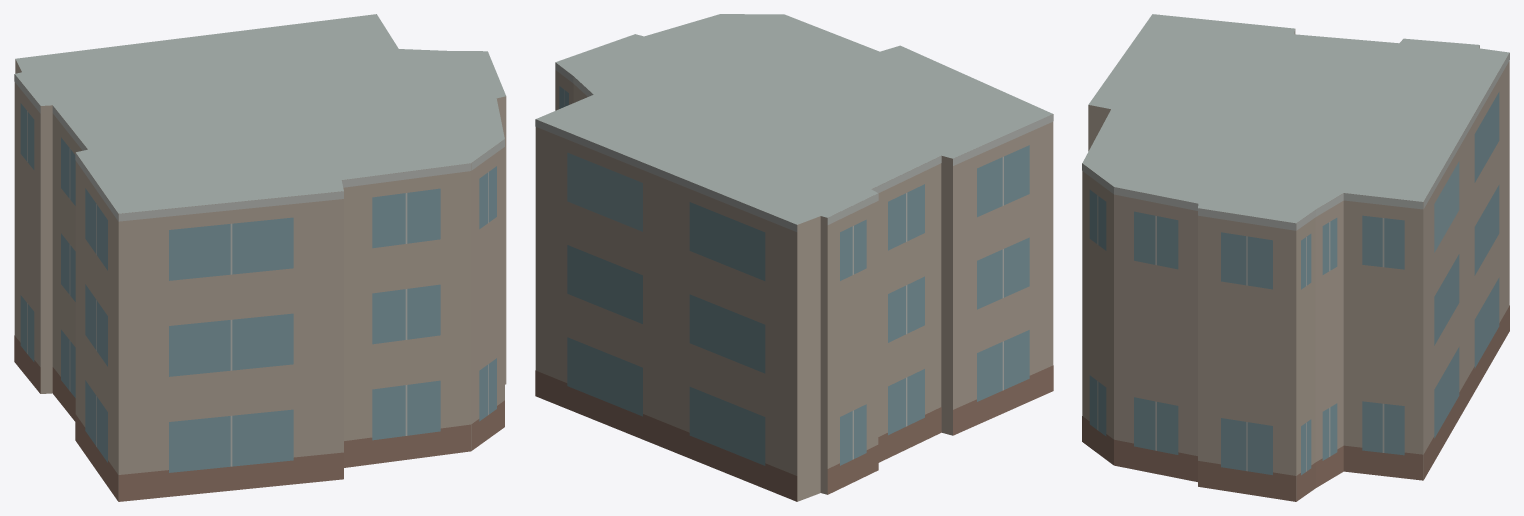
Rendered from survey-upis-32974151.glb.
The picture shows the model from 3 angles, left to right: view 1: azimuth 30°, elevation 25°; view 2: azimuth 150°, elevation 25°; view 3: azimuth 270°, elevation 25°; orthographic projection. The views are drawn at different scales.
Visible parts, largest first — view 1: survey-upis-32974151.tmp; view 2: survey-upis-32974151.tmp; view 3: survey-upis-32974151.tmp.
Boxes of the visible parts, <box> form: survey-upis-32974151.tmp: <box>14,14,506,501</box>; survey-upis-32974151.tmp: <box>535,14,1053,501</box>; survey-upis-32974151.tmp: <box>1082,14,1509,501</box>.
Bounding box in the file's own units: 14.53 × 9.01 × 12.54.
